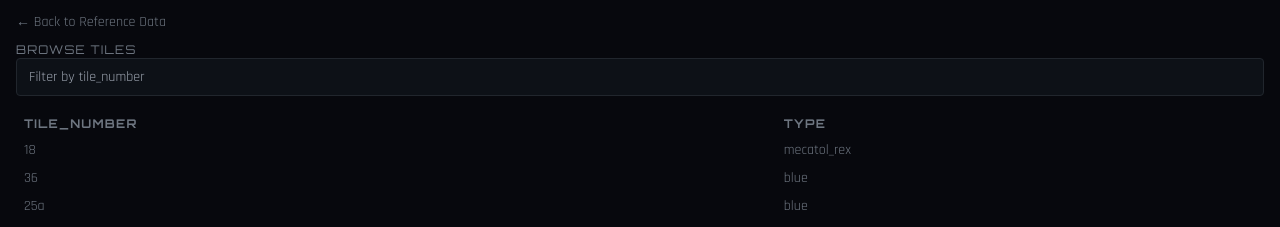
Test: AdminBrowsePage › filter is case-insensitive
The width and height of the screenshot is (1280, 227).
Type "25A" into the field with placeholder "Filter by tile_number" at point(640, 77), box [16, 58, 1264, 96]
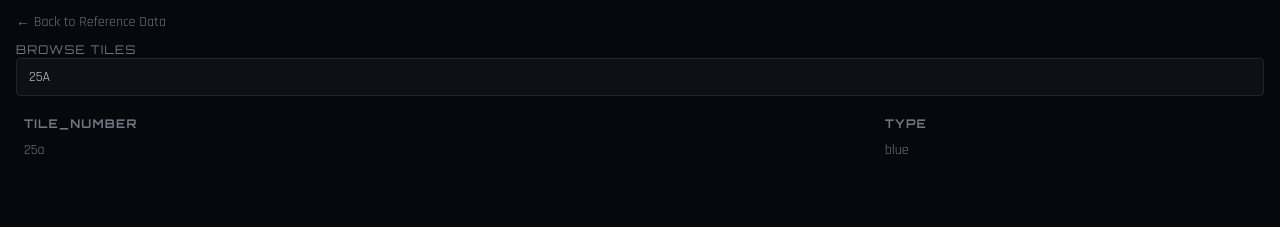
Expected: the text "25a" is shown, [16, 136, 877, 164]
